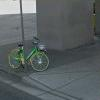Bicycle: (5, 36, 53, 75)
